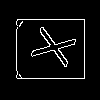X: (30, 25, 87, 72)
